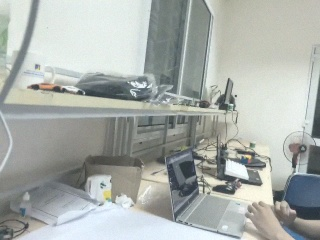cup: (11, 45, 55, 93)
toy_car: (55, 80, 84, 96), (28, 79, 57, 95)
